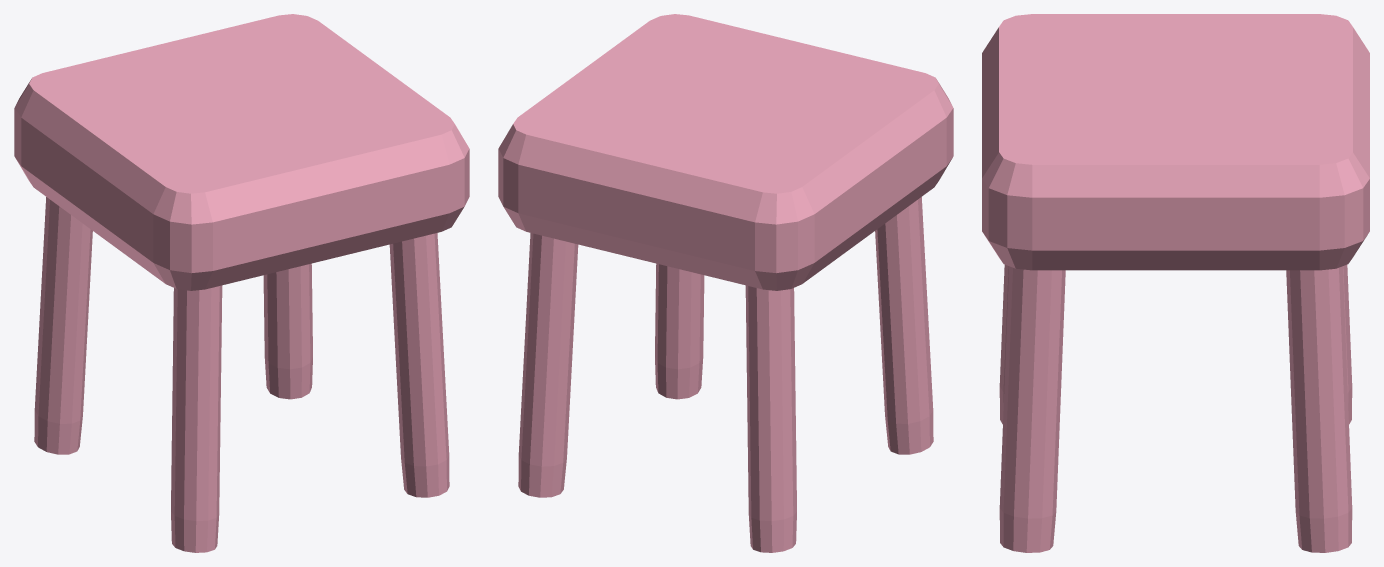
The model's file is stool_plastic.glb.
3 views of the same model, side by side, from view 1: azimuth 30°, elevation 25°; view 2: azimuth 150°, elevation 25°; view 3: azimuth 270°, elevation 25° (orthographic). The views are drawn at different scales.
Parts seen in each view (by area): view 1: model; view 2: model; view 3: model.
Boxes of the visible parts, box(x1,y1,x2,y2) form: model: box(14, 14, 469, 552); model: box(498, 14, 953, 552); model: box(982, 14, 1369, 552).
Size of the model in its own units: 0.4 by 0.45 by 0.4.
